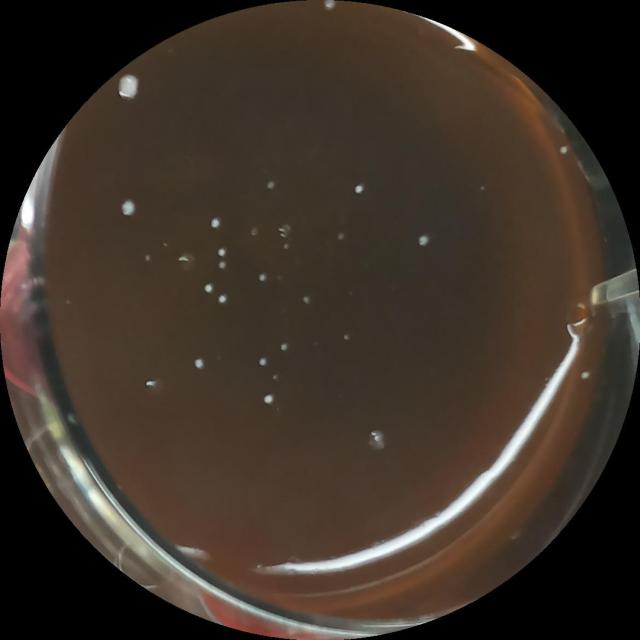Staphylococcus: (114, 70, 142, 104), (118, 196, 138, 219), (416, 231, 431, 249), (209, 215, 222, 231), (261, 392, 274, 407), (192, 356, 204, 371), (354, 182, 366, 195), (216, 292, 227, 306), (202, 282, 213, 294), (216, 247, 227, 258), (258, 356, 268, 367)
